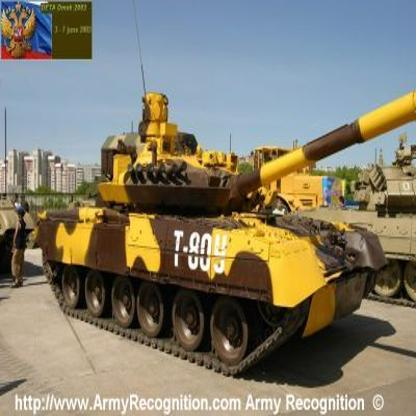Tank: (31, 84, 416, 376)
